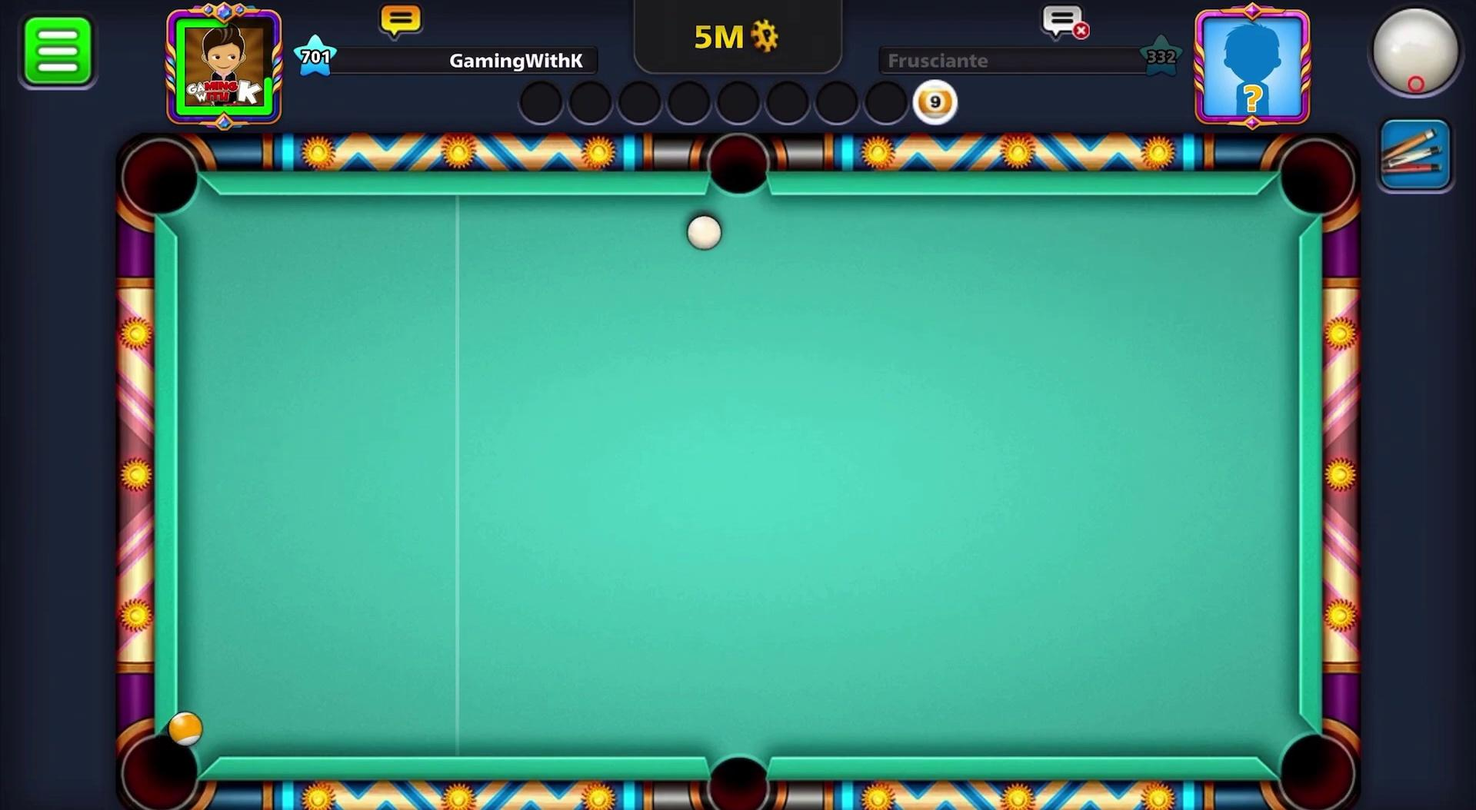Hole: (108, 128, 213, 231), (109, 713, 212, 809), (1268, 131, 1364, 229), (1264, 719, 1364, 809), (685, 734, 786, 809), (693, 130, 784, 207)
Play_Area: (181, 196, 1297, 762)
Spin: (1345, 0, 1475, 115)
White: (675, 207, 728, 254)
